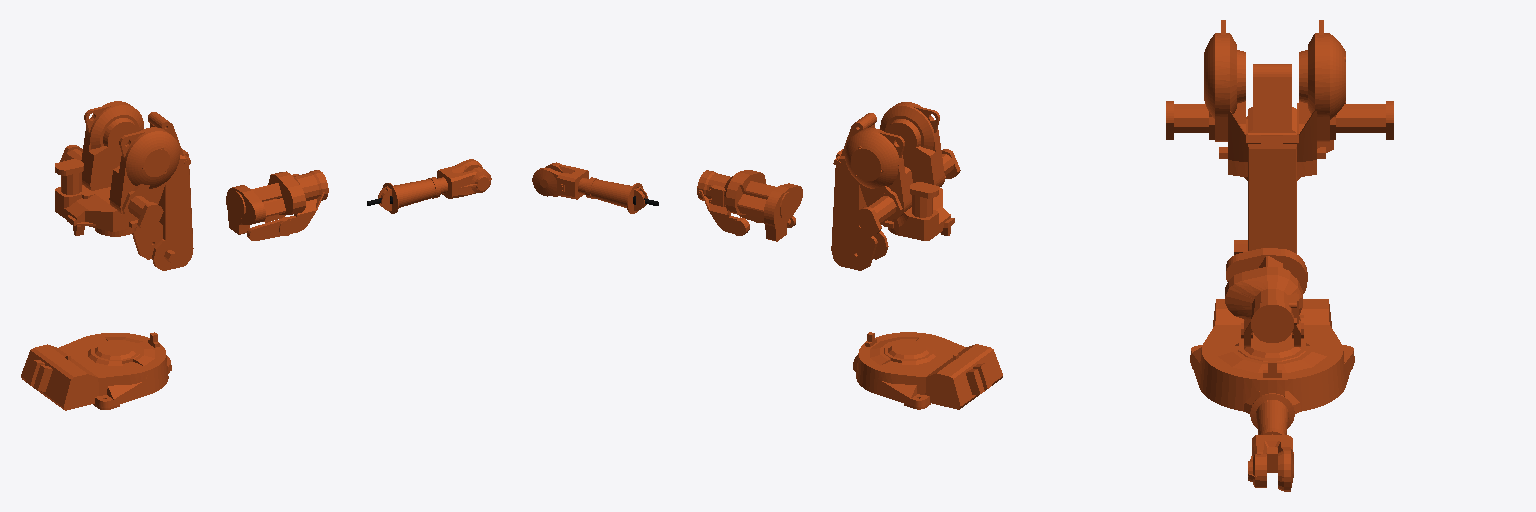
URDF robot description (kuka_kr16_2):
<?xml version="1.0" ?>
<!-- =================================================================================== -->
<!-- |    This document was autogenerated by xacro from kr16_2.xacro                   | -->
<!-- |    EDITING THIS FILE BY HAND IS NOT RECOMMENDED                                 | -->
<!-- =================================================================================== -->
<!--Generates a urdf from the macro in kr16_2_macro.xacro -->
<robot name="kuka_kr16_2" xmlns:xacro="http://wiki.ros.org/xacro">
  <!-- LINKS -->
  <!-- base link -->
  <link name="base_link">
    <inertial>
      <origin rpy="0 0 0" xyz="0 0 0"/>
      <mass value="2"/>
      <inertia ixx="0.01" ixy="0" ixz="0" iyy="0.01" iyz="0" izz="0.01"/>
    </inertial>
    <visual>
      <origin rpy="0 0 0" xyz="0 0 0"/>
      <geometry>
        <mesh filename="package://visual/base_link.dae"/>
      </geometry>
    </visual>
    <collision>
      <origin rpy="0 0 0" xyz="0 0 0"/>
      <geometry>
        <mesh filename="package://collision/base_link.stl"/>
      </geometry>
    </collision>
  </link>
  <!-- link 1 (A1) -->
  <link name="link_1">
    <inertial>
      <origin rpy="0 0 0" xyz="0 0 0"/>
      <mass value="2"/>
      <inertia ixx="0.01" ixy="0" ixz="0" iyy="0.01" iyz="0" izz="0.01"/>
    </inertial>
    <visual>
      <origin rpy="0 0 0" xyz="0 0 0"/>
      <geometry>
        <mesh filename="package://visual/link_1.dae"/>
      </geometry>
    </visual>
    <collision>
      <origin rpy="0 0 0" xyz="0 0 0"/>
      <geometry>
        <mesh filename="package://collision/link_1.stl"/>
      </geometry>
    </collision>
  </link>
  <!-- link 2 -->
  <link name="link_2">
    <inertial>
      <origin rpy="0 0 0" xyz="0 0 0"/>
      <mass value="2"/>
      <inertia ixx="0.01" ixy="0" ixz="0" iyy="0.01" iyz="0" izz="0.01"/>
    </inertial>
    <visual>
      <origin rpy="0 0 0" xyz="0 0 0"/>
      <geometry>
        <mesh filename="package://visual/link_2.dae"/>
      </geometry>
    </visual>
    <collision>
      <origin rpy="0 0 0" xyz="0 0 0"/>
      <geometry>
        <mesh filename="package://collision/link_2.stl"/>
      </geometry>
    </collision>
  </link>
  <!-- link 3 -->
  <link name="link_3">
    <inertial>
      <origin rpy="0 0 0" xyz="0 0 0"/>
      <mass value="2"/>
      <inertia ixx="0.01" ixy="0" ixz="0" iyy="0.01" iyz="0" izz="0.01"/>
    </inertial>
    <visual>
      <origin rpy="0 0 0" xyz="0 0 0"/>
      <geometry>
        <mesh filename="package://visual/link_3.dae"/>
      </geometry>
    </visual>
    <collision>
      <origin rpy="0 0 0" xyz="0 0 0"/>
      <geometry>
        <mesh filename="package://collision/link_3.stl"/>
      </geometry>
    </collision>
  </link>
  <!-- link 4 -->
  <link name="link_4">
    <inertial>
      <origin rpy="0 0 0" xyz="0 0 0"/>
      <mass value="2"/>
      <inertia ixx="0.01" ixy="0" ixz="0" iyy="0.01" iyz="0" izz="0.01"/>
    </inertial>
    <visual>
      <origin rpy="0 0 0" xyz="0 0 0"/>
      <geometry>
        <mesh filename="package://visual/link_4.dae"/>
      </geometry>
    </visual>
    <collision>
      <origin rpy="0 0 0" xyz="0 0 0"/>
      <geometry>
        <mesh filename="package://collision/link_4.stl"/>
      </geometry>
    </collision>
  </link>
  <!-- link 5 -->
  <link name="link_5">
    <inertial>
      <origin rpy="0 0 0" xyz="0 0 0"/>
      <mass value="2"/>
      <inertia ixx="0.01" ixy="0" ixz="0" iyy="0.01" iyz="0" izz="0.01"/>
    </inertial>
    <visual>
      <origin rpy="0 0 0" xyz="0 0 0"/>
      <geometry>
        <mesh filename="package://visual/link_5.dae"/>
      </geometry>
    </visual>
    <collision>
      <origin rpy="0 0 0" xyz="0 0 0"/>
      <geometry>
        <mesh filename="package://collision/link_5.stl"/>
      </geometry>
    </collision>
  </link>
  <!-- link 6 -->
  <link name="link_6">
    <inertial>
      <origin rpy="0 0 0" xyz="0 0 0"/>
      <mass value="2"/>
      <inertia ixx="0.01" ixy="0" ixz="0" iyy="0.01" iyz="0" izz="0.01"/>
    </inertial>
    <visual>
      <origin rpy="0 0 0" xyz="0 0 0"/>
      <geometry>
        <mesh filename="package://visual/link_6.dae"/>
      </geometry>
    </visual>
    <collision>
      <origin rpy="0 0 0" xyz="0 0 0"/>
      <geometry>
        <mesh filename="package://collision/link_6.stl"/>
      </geometry>
    </collision>
  </link>
  <!-- tool 0 -->
  <!-- This frame corresponds to the $FLANGE coordinate system in KUKA KRC controllers. -->
  <link name="tool0"/>
  <!-- END LINKS -->
  <!-- JOINTS -->
  <!-- joint 1 (A1) -->
  <joint name="joint_a1" type="revolute">
    <origin rpy="0 0 0" xyz="0 0 0.675"/>
    <parent link="base_link"/>
    <child link="link_1"/>
    <axis xyz="0 0 -1"/>
    <limit effort="0" lower="-3.22885911619" upper="3.22885911619" velocity="2.72271363311"/>
  </joint>
  <!-- joint 2 (A2) -->
  <joint name="joint_a2" type="revolute">
    <origin rpy="0 0 0" xyz="0.26 0 0"/>
    <parent link="link_1"/>
    <child link="link_2"/>
    <axis xyz="0 1 0"/>
    <limit effort="0" lower="-2.70526034059" upper="0.610865238198" velocity="2.72271363311"/>
  </joint>
  <!-- joint 3 (A3) -->
  <joint name="joint_a3" type="revolute">
    <origin rpy="0 0 0" xyz="0.68 0 0"/>
    <parent link="link_2"/>
    <child link="link_3"/>
    <axis xyz="0 1 0"/>
    <limit effort="0" lower="-2.26892802759" upper="2.68780704807" velocity="2.72271363311"/>
  </joint>
  <!-- joint 4 (A4) -->
  <joint name="joint_a4" type="revolute">
    <origin rpy="0 0 0" xyz="0.67 0 -0.035"/>
    <parent link="link_3"/>
    <child link="link_4"/>
    <axis xyz="-1 0 0"/>
    <limit effort="0" lower="-6.10865238198" upper="6.10865238198" velocity="5.75958653158"/>
  </joint>
  <!-- joint 5 (A5) -->
  <joint name="joint_a5" type="revolute">
    <origin rpy="0 0 0" xyz="0 0 0"/>
    <parent link="link_4"/>
    <child link="link_5"/>
    <axis xyz="0 1 0"/>
    <limit effort="0" lower="-2.26892802759" upper="2.26892802759" velocity="5.75958653158"/>
  </joint>
  <!-- joint 6 (A6) -->
  <joint name="joint_a6" type="revolute">
    <origin rpy="0 0 0" xyz="0 0 0"/>
    <parent link="link_5"/>
    <child link="link_6"/>
    <axis xyz="-1 0 0"/>
    <limit effort="0" lower="-6.10865238198" upper="6.10865238198" velocity="10.7337748998"/>
  </joint>
  <!-- tool frame - fixed frame -->
  <joint name="joint_a6-tool0" type="fixed">
    <parent link="link_6"/>
    <child link="tool0"/>
    <origin rpy="0 1.57079632679 0" xyz="0.158 0 0"/>
  </joint>
  <!-- END JOINTS -->
  <!-- ROS base_link to KUKA $ROBROOT coordinate system transform -->
  <link name="base"/>
  <joint name="base_link-base" type="fixed">
    <origin rpy="0 0 0" xyz="0 0 0"/>
    <parent link="base_link"/>
    <child link="base"/>
  </joint>
</robot>

--- What the picture shows (computed from the rendered views, not written in the file) ---
3 views of the same robot in one strip: view 1: azimuth 30°, elevation 25°; view 2: azimuth 150°, elevation 25°; view 3: azimuth 270°, elevation 25° (orthographic).
Robot: kuka_kr16_2 — 9 links, 8 joints (6 revolute, 2 fixed); root link base_link; default pose: all joints at 0.
Visible links, largest first — view 1: link_1, base_link, link_3, link_2, link_4; view 2: link_1, base_link, link_3, link_2, link_4; view 3: link_1, base_link, link_2, link_3, link_4.
Boxes of the visible links, x1,y1,x2,y2 form: link_1: (55, 101, 179, 236); base_link: (21, 332, 171, 410); link_3: (226, 170, 328, 240); link_2: (132, 112, 193, 270); link_4: (382, 159, 491, 213); link_1: (845, 102, 960, 240); base_link: (853, 332, 1002, 409); link_3: (697, 170, 802, 241); link_2: (831, 113, 888, 270); link_4: (532, 162, 643, 213); link_1: (1166, 20, 1393, 180); base_link: (1190, 299, 1354, 413); link_2: (1234, 64, 1298, 254); link_3: (1225, 248, 1307, 346); link_4: (1248, 393, 1294, 491).
Bounding box of the posed robot: 2.66 × 0.833 × 1.45 m (x, y, z).
Meshes: 7 distinct files referenced, 7 mesh visuals loaded (7 Collada DAE).
